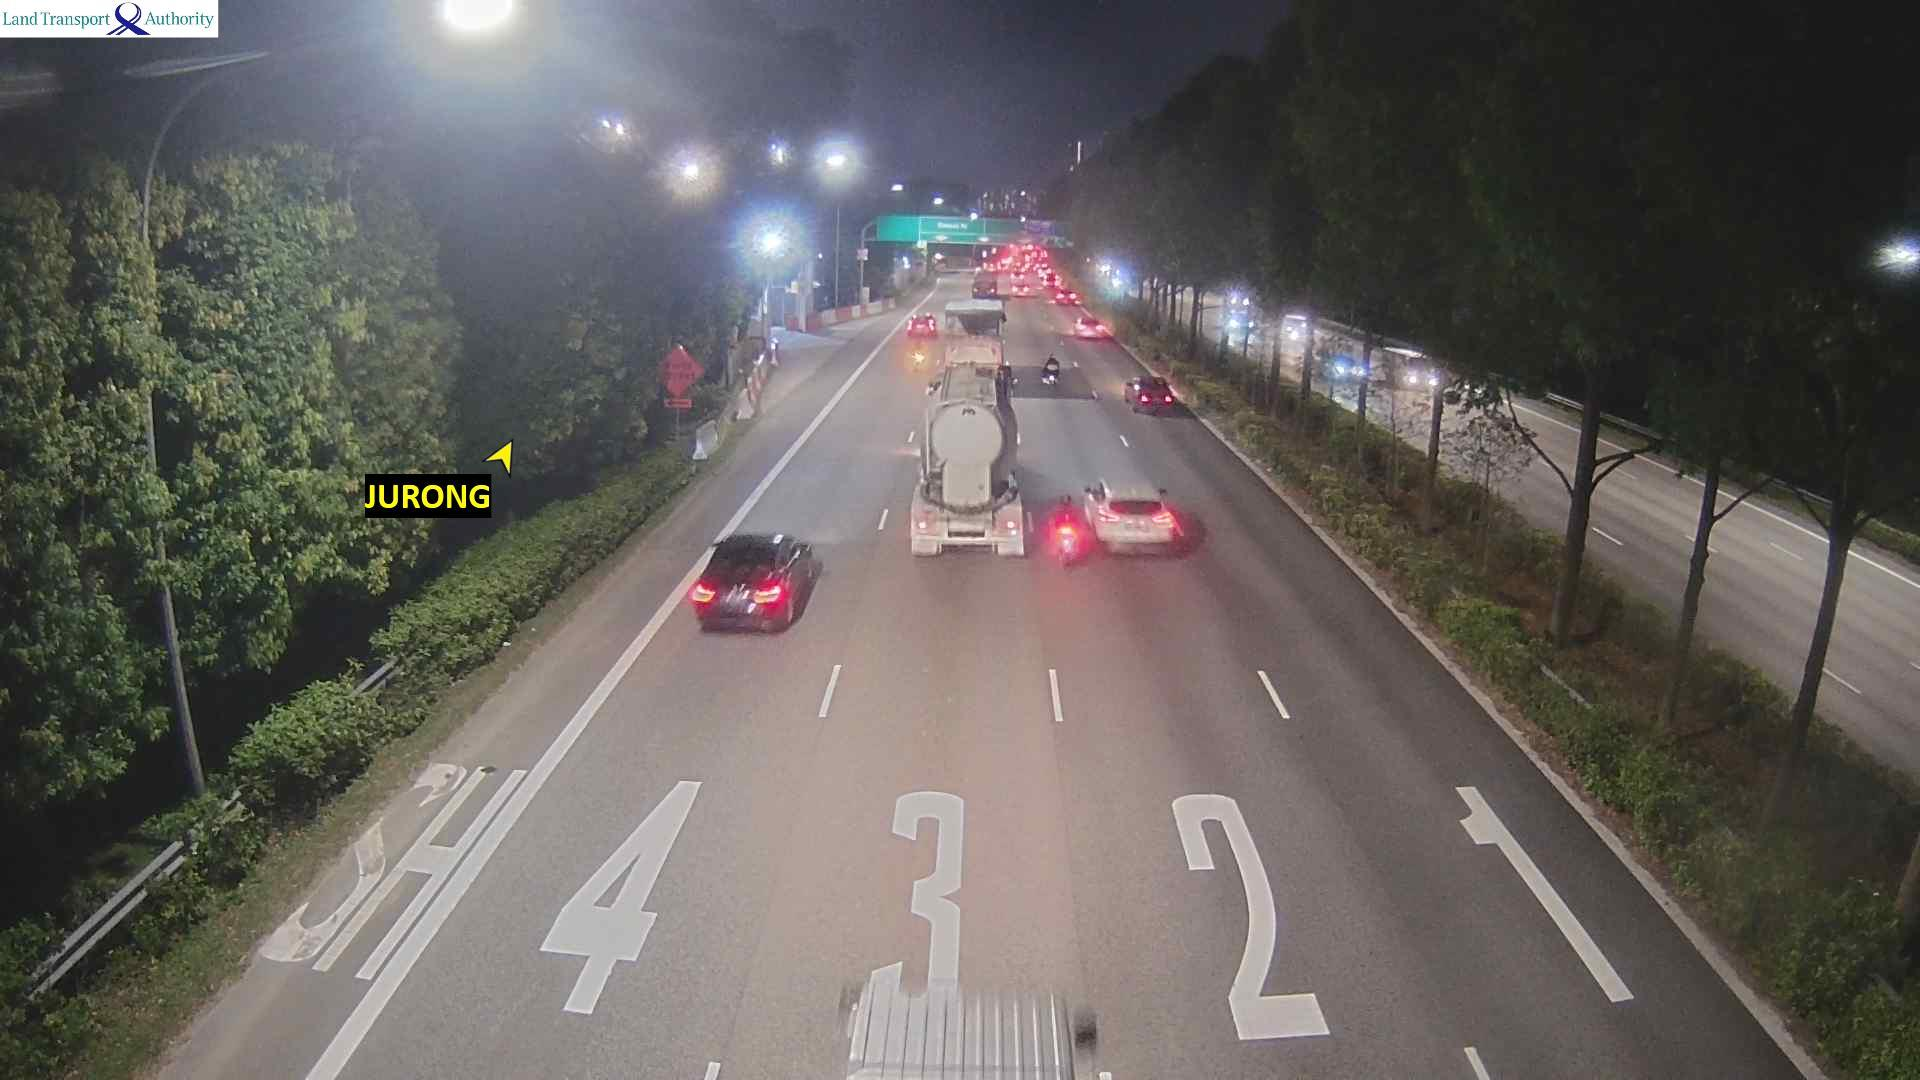incoming: (1404, 353, 1440, 390), (1331, 352, 1360, 380), (1286, 316, 1309, 343), (1229, 327, 1258, 344)
